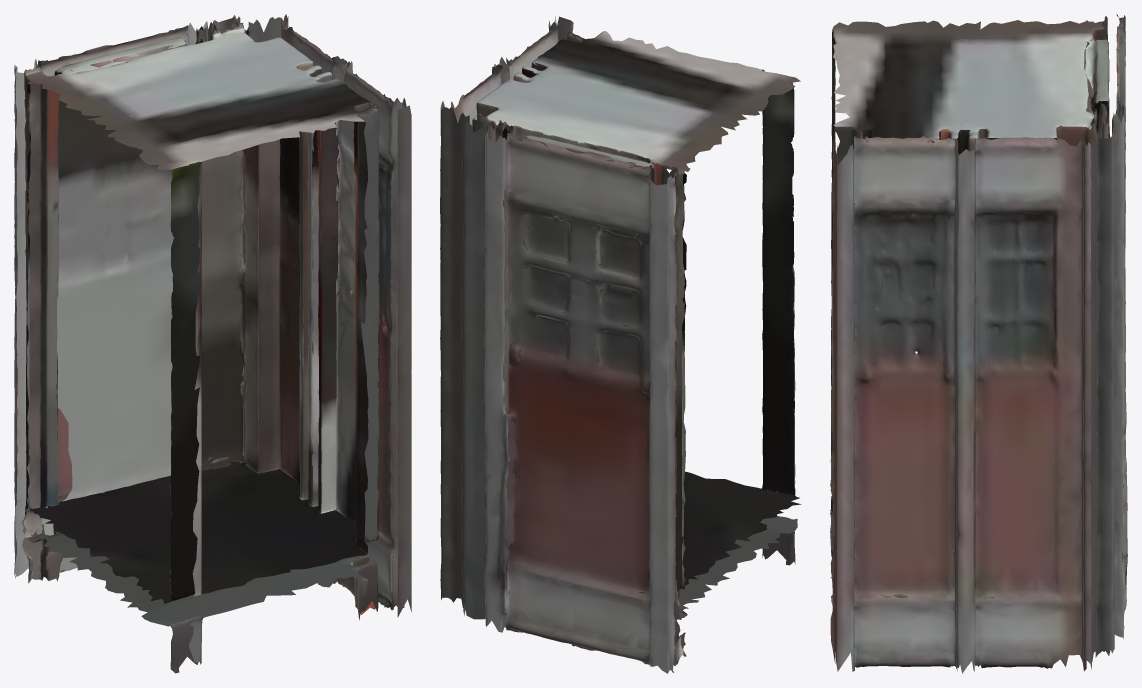
3 renders of one model, left to right at view 1: azimuth 30°, elevation 25°; view 2: azimuth 150°, elevation 25°; view 3: azimuth 270°, elevation 25°, orthographic. The views are drawn at different scales.
Visible parts, largest first — view 1: corner3; view 2: corner3; view 3: corner3.
Part boxes in pixels (left/top/right/bottom): corner3: left=14, top=14, right=411, bottom=673; corner3: left=440, top=16, right=801, bottom=673; corner3: left=830, top=14, right=1127, bottom=673.
Bounding box in the file's own units: 0.5731 × 1.09 × 0.5493.
1 material, 1 textured.
